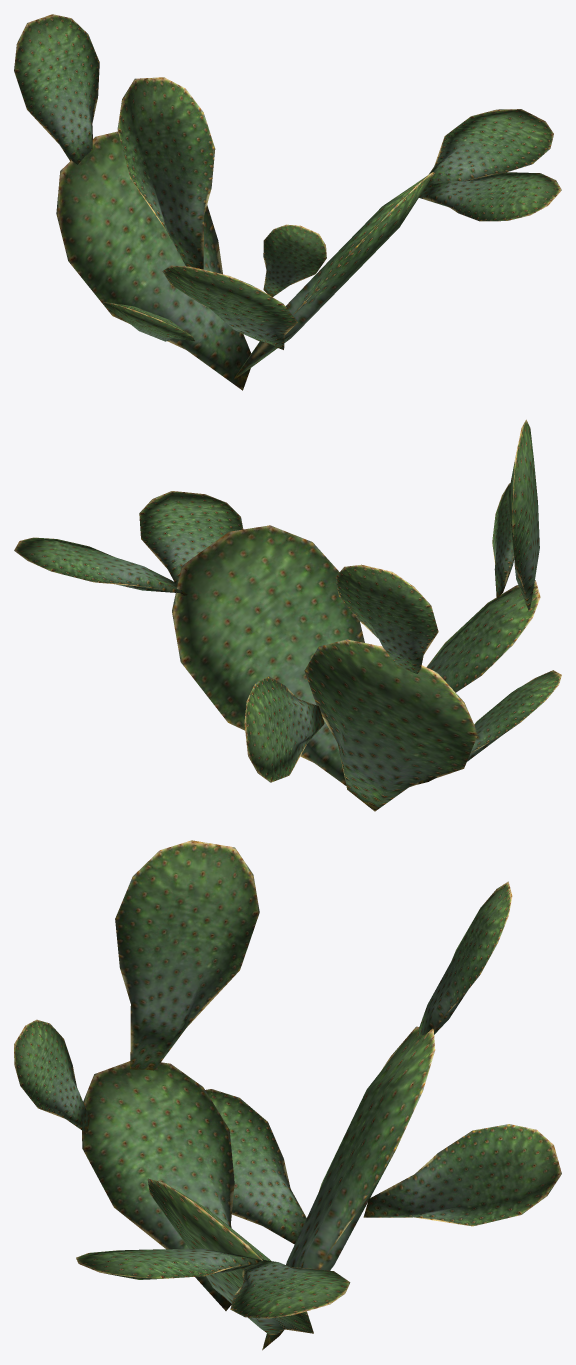
File: cactus_02.FBX
3 views of the same model, one above another, from view 1: azimuth 30°, elevation 25°; view 2: azimuth 150°, elevation 25°; view 3: azimuth 270°, elevation 25° (orthographic). The views are drawn at different scales.
Visible parts, largest first — view 1: cactus_02; view 2: cactus_02; view 3: cactus_02.
Part boxes in pixels (x1=…): cactus_02: x1=14, y1=14, x2=561, y2=390; cactus_02: x1=14, y1=419, x2=561, y2=811; cactus_02: x1=14, y1=840, x2=561, y2=1350.
Bounding box in the file's own units: 31.45 × 23.27 × 25.94.
Materials: 1 (1 with a texture image).
